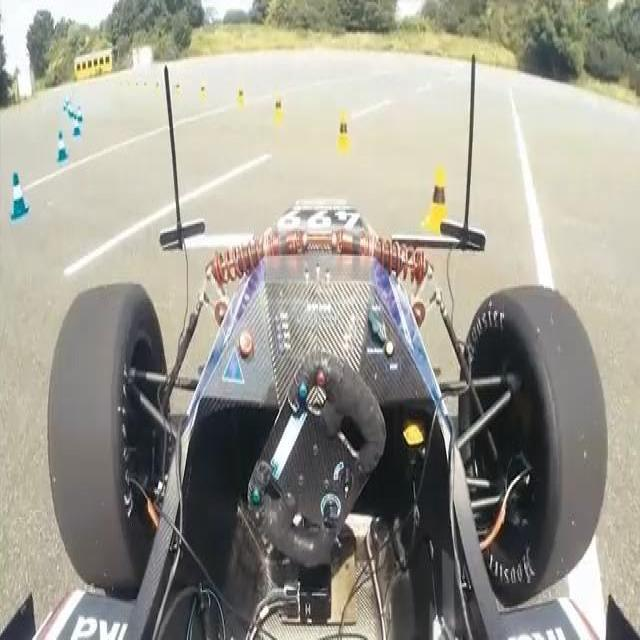blue_cone: (11, 166, 28, 223), (54, 126, 68, 162), (72, 119, 80, 141), (77, 105, 84, 124), (72, 106, 77, 122)
yellow_cone: (419, 160, 452, 237), (336, 109, 354, 157), (272, 91, 285, 125), (237, 87, 246, 112), (199, 82, 208, 105), (176, 78, 182, 99), (154, 78, 160, 95), (144, 80, 148, 94)
